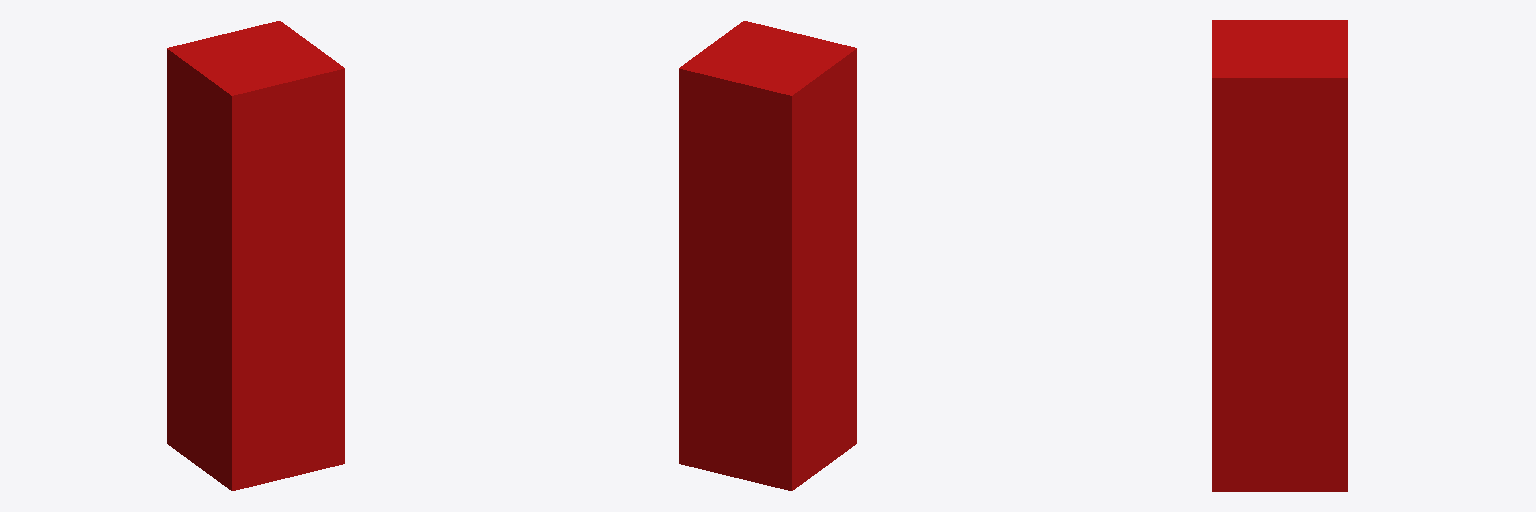
URDF robot description (simple_cuboid):
<?xml version="1.0"?>
<robot name="simple_cuboid">
  <link name="base_link">
    <inertial>
      <origin xyz="0 0 0" rpy="0 0 0"/>
      <mass value="0.1"/>
      <inertia ixx="0.000363" ixy="0" ixz="0" iyy="0.000363" iyz="0" izz="0.00006"/>
    </inertial>
    <visual>
      <origin xyz="0 0 0" rpy="0 0 0"/>
      <geometry>
        <box size="0.06 0.06 0.2"/>
      </geometry>
      <material name="red">
        <color rgba="0.8 0.1 0.1 0.9"/>
      </material>
    </visual>
    <!--
      This places contact spheres on the corners of the visual box and a
      *slightly* smaller inset contact box (centered on the visual origin). This
      accounts for issues in the contact computation providing stable table
      contact *and* supports grasping.

      When the box is in stable contact with the ground plane, the corner
      spheres will provide fixed contact points (simulating distributed contact
      points around the face).  However, for arbitrary grip configuration, the
      slightly inset box will provide contact with a *slight* offset (in this
      case a deviation of 0.0005 m from the visual surface).

      https://github.com/RobotLocomotion/drake/issues/6254 tracks the
      difficulty in supporting face-to-face contact.
     -->
    <collision>
      <geometry>
        <box size="0.059 0.059 0.199"/>
      </geometry>
    </collision>
    <collision>
      <origin xyz="-0.03 -0.03 -0.1" rpy="0 0 0"/>
      <geometry>
        <sphere radius="1e-7"/>
      </geometry>
    </collision>
    <collision>
      <origin xyz="-0.03 0.03 -0.1" rpy="0 0 0"/>
      <geometry>
        <sphere radius="1e-7"/>
      </geometry>
    </collision>
    <collision>
      <origin xyz="0.03 0.03 -0.1" rpy="0 0 0"/>
      <geometry>
        <sphere radius="1e-7"/>
      </geometry>
    </collision>
    <collision>
      <origin xyz="0.03 -0.03 -0.1" rpy="0 0 0"/>
      <geometry>
        <sphere radius="1e-7"/>
      </geometry>
    </collision>
    <collision>
      <origin xyz="-0.03 -0.03 0.1" rpy="0 0 0"/>
      <geometry>
        <sphere radius="1e-7"/>
      </geometry>
    </collision>
    <collision>
      <origin xyz="-0.03 0.03 0.1" rpy="0 0 0"/>
      <geometry>
        <sphere radius="1e-7"/>
      </geometry>
    </collision>
    <collision>
      <origin xyz="0.03 0.03 0.1" rpy="0 0 0"/>
      <geometry>
        <sphere radius="1e-7"/>
      </geometry>
    </collision>
    <collision>
      <origin xyz="0.03 -0.03 0.1" rpy="0 0 0"/>
      <geometry>
        <sphere radius="1e-7"/>
      </geometry>
    </collision>
  </link>
</robot>

--- Facts derived from the render (not from the file) ---
The picture shows the robot from 3 angles, left to right: view 1: azimuth 30°, elevation 25°; view 2: azimuth 150°, elevation 25°; view 3: azimuth 270°, elevation 25°; orthographic projection.
Robot: simple_cuboid — 1 links, 0 joints (none); root link base_link; default pose: every joint at zero.
Links seen in each view (by area): view 1: base_link; view 2: base_link; view 3: base_link.
Boxes of the visible links, x1,y1,x2,y2 form: base_link: (167,21,344,490); base_link: (679,21,856,490); base_link: (1212,20,1347,491).
Bounding box of the posed robot: 0.06 × 0.06 × 0.2 m (x, y, z).
Geometry: primitives only (box / cylinder / sphere), no mesh files.